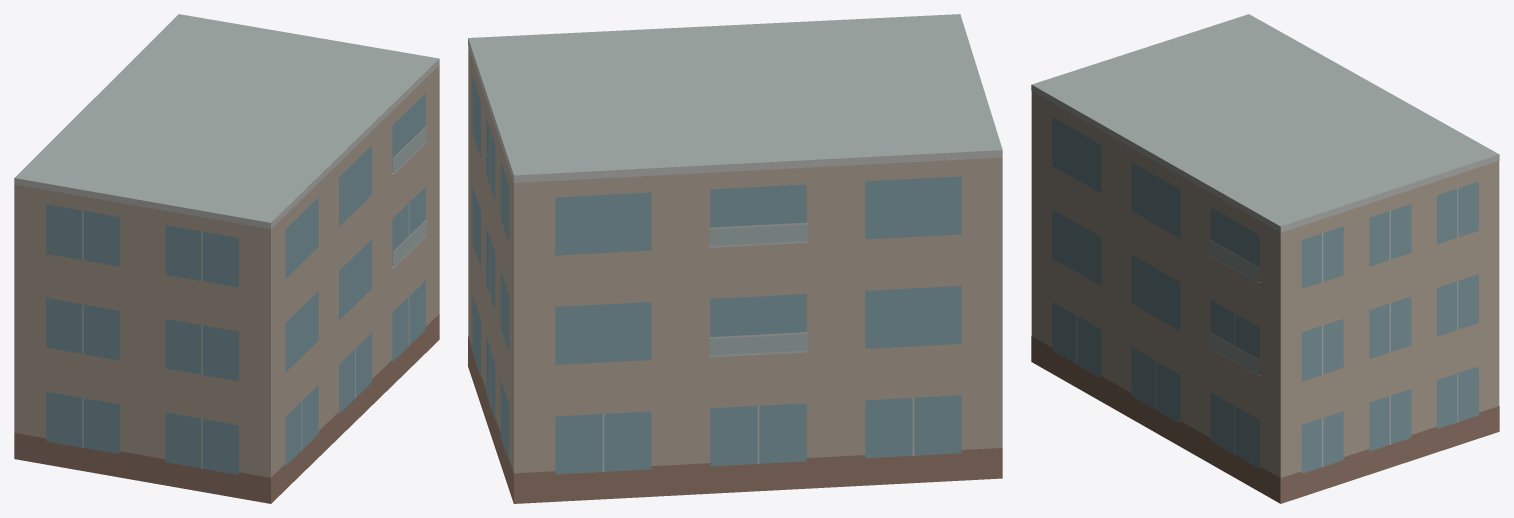
The model's file is survey-upis-32737104.glb.
The picture shows the model from 3 angles, left to right: view 1: azimuth 30°, elevation 25°; view 2: azimuth 150°, elevation 25°; view 3: azimuth 270°, elevation 25°; orthographic projection. The views are drawn at different scales.
Parts seen in each view (by area): view 1: survey-upis-32737104.tmp; view 2: survey-upis-32737104.tmp; view 3: survey-upis-32737104.tmp.
Boxes of the visible parts, <box> form: survey-upis-32737104.tmp: <box>14,14,439,503</box>; survey-upis-32737104.tmp: <box>468,14,1002,503</box>; survey-upis-32737104.tmp: <box>1031,14,1499,503</box>.
Bounding box in the file's own units: 17.6 × 10.7 × 16.37.
